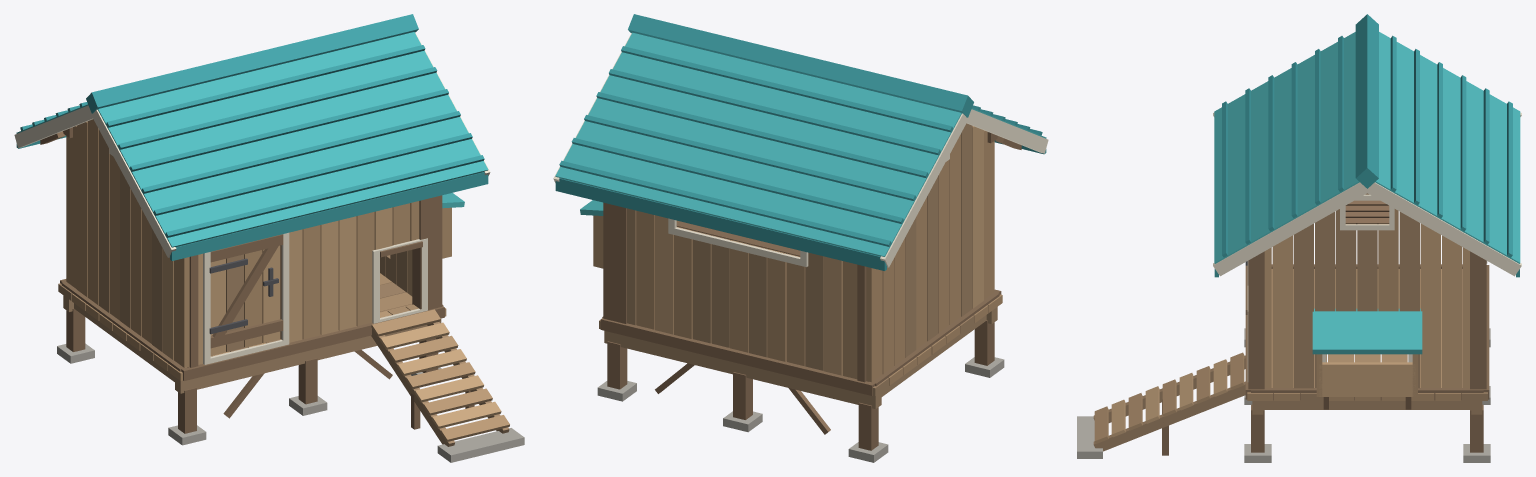
3 views of the same model, side by side, from view 1: azimuth 30°, elevation 25°; view 2: azimuth 150°, elevation 25°; view 3: azimuth 270°, elevation 25° (orthographic). The views are drawn at different scales.
Visible parts, largest first — view 1: Coop_teal, Coop_wb, Coop_tealD, Coop_wa, Coop_wd, Coop_wc, Coop_cream, Coop_stone, Coop_metal; view 2: Coop_teal, Coop_tealD, Coop_wb, Coop_wc, Coop_wd, Coop_wa, Coop_cream, Coop_stone; view 3: Coop_teal, Coop_wa, Coop_wc, Coop_tealD, Coop_wd, Coop_wb, Coop_cream, Coop_stone.
Boxes of the visible parts, <box> form: Coop_teal: <box>16,32,488,247</box>; Coop_wb: <box>66,119,509,441</box>; Coop_tealD: <box>16,14,488,260</box>; Coop_wa: <box>163,207,501,428</box>; Coop_wd: <box>40,127,474,433</box>; Coop_wc: <box>58,129,509,446</box>; Coop_cream: <box>14,32,490,364</box>; Coop_stone: <box>57,343,524,462</box>; Coop_metal: <box>209,258,278,334</box>; Coop_teal: <box>555,32,1046,256</box>; Coop_tealD: <box>555,14,1046,270</box>; Coop_wb: <box>593,130,1002,385</box>; Coop_wc: <box>599,123,997,409</box>; Coop_wd: <box>600,132,1021,450</box>; Coop_wa: <box>655,126,983,375</box>; Coop_cream: <box>553,33,1048,267</box>; Coop_stone: <box>597,357,1004,462</box>; Coop_teal: <box>1214,32,1520,354</box>; Coop_wa: <box>1111,223,1469,437</box>; Coop_wc: <box>1093,193,1487,451</box>; Coop_tealD: <box>1214,14,1519,277</box>; Coop_wd: <box>1162,200,1489,455</box>; Coop_wb: <box>1094,209,1461,443</box>; Coop_cream: <box>1213,112,1521,381</box>; Coop_stone: <box>1077,328,1490,462</box>.
Size of the model in its own units: 2.86 by 2.48 by 3.25.
